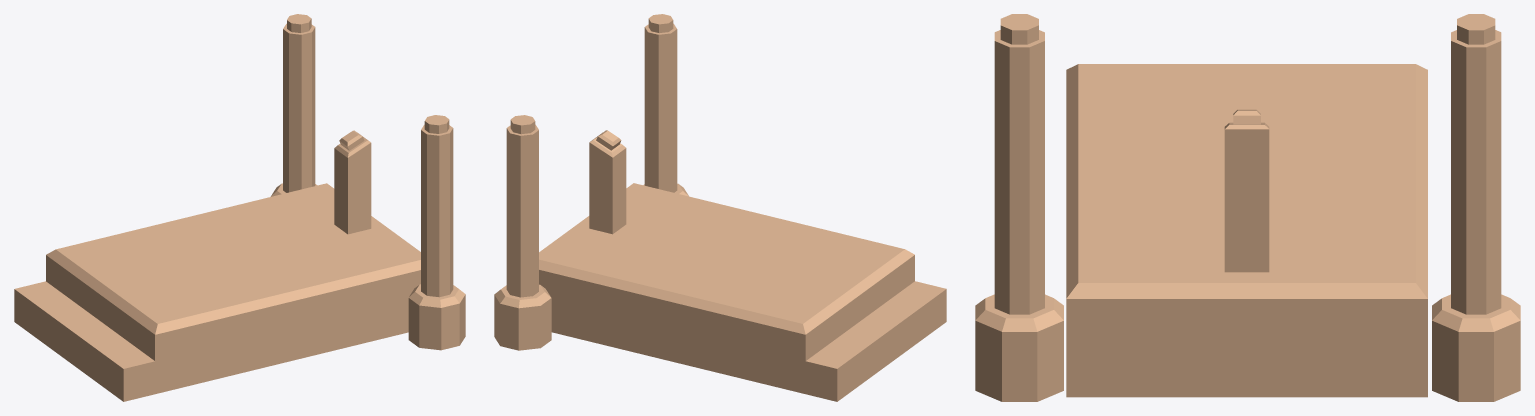
File: Altar.fbx
3 views of the same model, side by side, from view 1: azimuth 30°, elevation 25°; view 2: azimuth 150°, elevation 25°; view 3: azimuth 270°, elevation 25° (orthographic). The views are drawn at different scales.
Visible parts, largest first — view 1: Cube; view 2: Cube; view 3: Cube.
Boxes of the visible parts, x1=… form: Cube: x1=14, y1=14, x2=465, y2=401; Cube: x1=494, y1=14, x2=946, y2=401; Cube: x1=975, y1=14, x2=1520, y2=401.
Bounding box in the file's own units: 1023 × 663 × 904.
